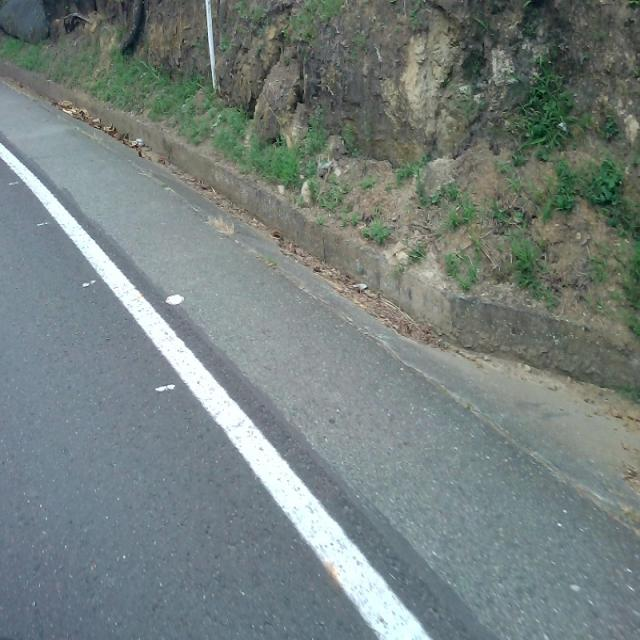DITCH: (1, 60, 638, 638), (1, 69, 638, 638)
